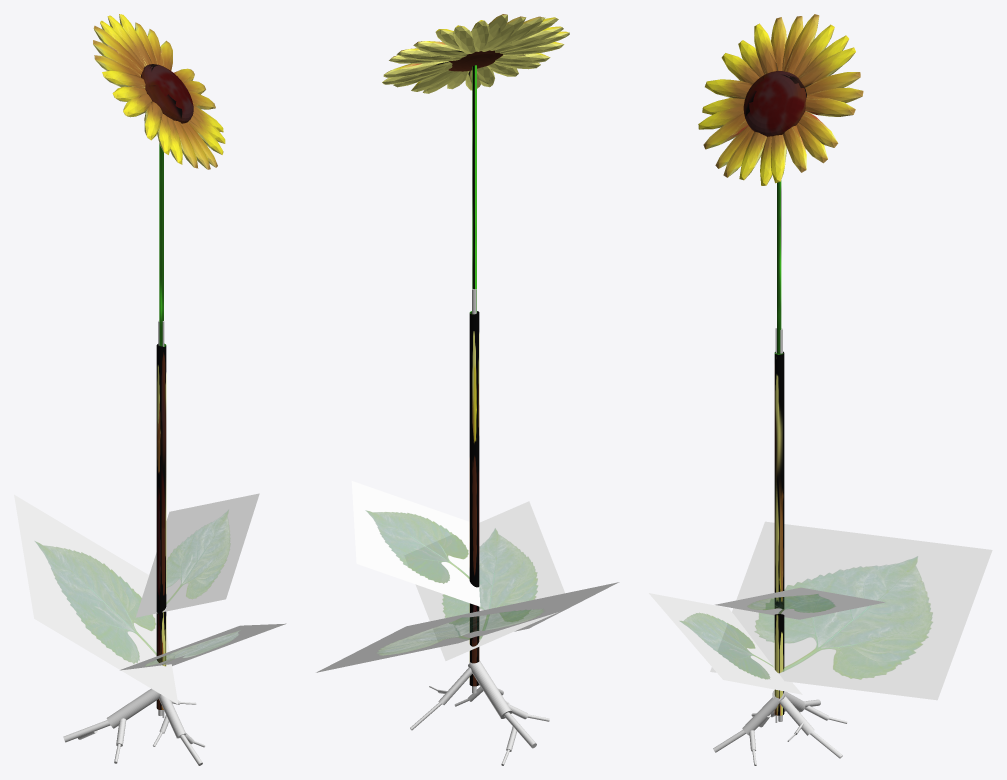
Rendered from Sunflower1.glb.
3 views of the same model, side by side, from view 1: azimuth 30°, elevation 25°; view 2: azimuth 150°, elevation 25°; view 3: azimuth 270°, elevation 25° (orthographic). The views are drawn at different scales.
Visible parts, largest first — view 1: SunflowerLeaf, Petals, SunflowerLeaf.002, Stem_outer, Middle, SunflowerLeaf.001, Root_03, Stem_inner, Root_02; view 2: SunflowerLeaf.001, SunflowerLeaf.002, Petals, SunflowerLeaf, Stem_outer, Root_03, Stem_inner, Middle; view 3: SunflowerLeaf, Petals, SunflowerLeaf.001, Stem_outer, Middle, SunflowerLeaf.002, Stem_inner, Root_02, Root_01.
Boxes of the visible parts, x1,y1,x2,y2 form: SunflowerLeaf: [14, 494, 178, 704]; Petals: [93, 14, 225, 169]; SunflowerLeaf.002: [136, 493, 259, 617]; Stem_outer: [156, 343, 166, 709]; Middle: [141, 64, 193, 123]; SunflowerLeaf.001: [120, 623, 286, 670]; Root_03: [63, 688, 161, 742]; Stem_inner: [159, 143, 163, 346]; Root_02: [159, 695, 202, 765]; SunflowerLeaf.001: [404, 501, 564, 660]; SunflowerLeaf.002: [351, 481, 480, 606]; Petals: [382, 14, 569, 93]; SunflowerLeaf: [316, 582, 619, 672]; Stem_outer: [469, 311, 479, 686]; Root_03: [468, 660, 536, 748]; Stem_inner: [472, 65, 476, 312]; Middle: [448, 50, 502, 71]; SunflowerLeaf: [710, 521, 992, 700]; Petals: [698, 14, 863, 185]; SunflowerLeaf.001: [649, 593, 802, 694]; Stem_outer: [774, 351, 784, 715]; Middle: [743, 71, 806, 136]; SunflowerLeaf.002: [715, 587, 885, 619]; Stem_inner: [777, 180, 781, 353]; Root_02: [713, 697, 779, 752]; Root_01: [775, 696, 842, 758].
Size of the model in its own units: 29.27 by 82.57 by 36.
4 materials, 4 textured.
